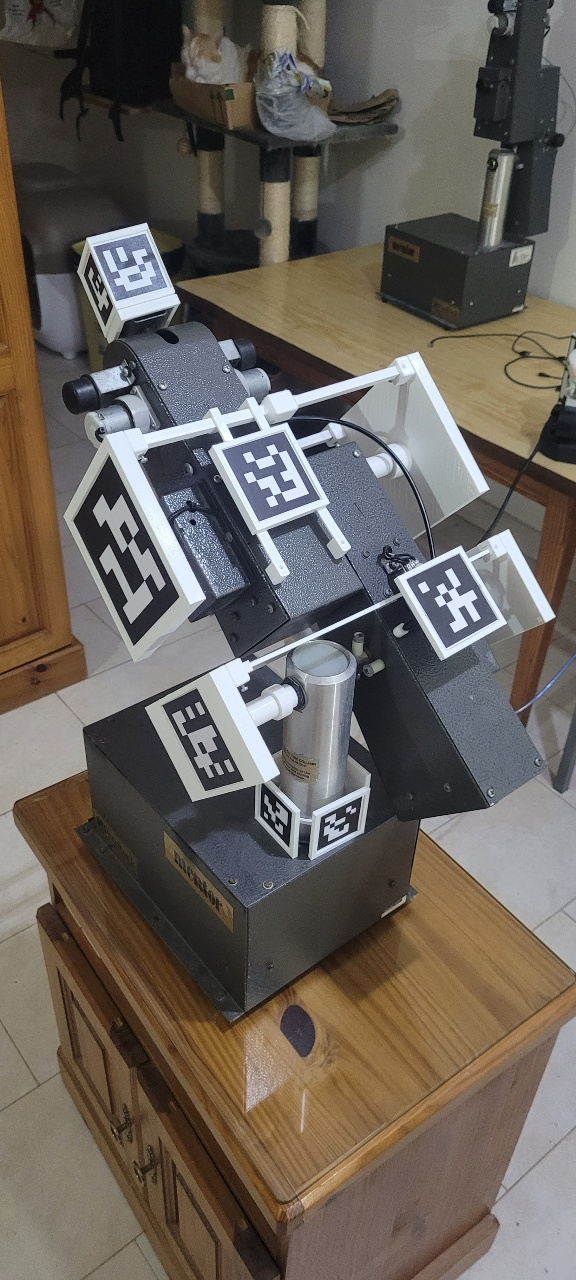Robot: (60, 220, 561, 862)
